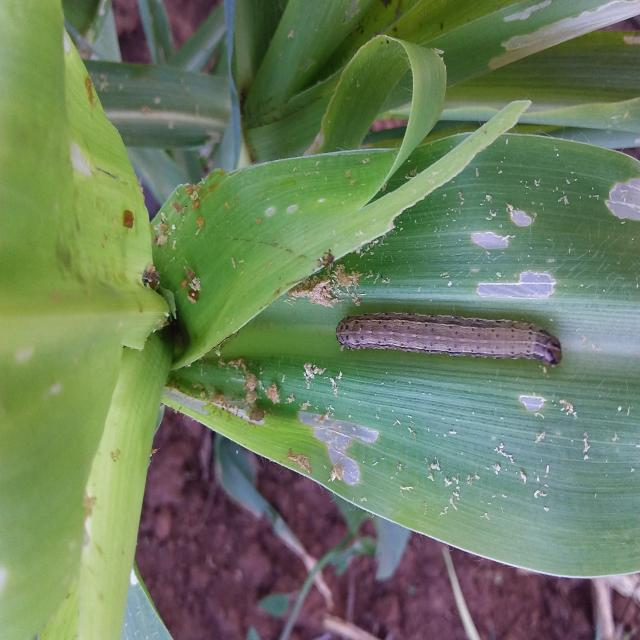yellow-stem-borer-larva: (308, 276, 579, 384)
